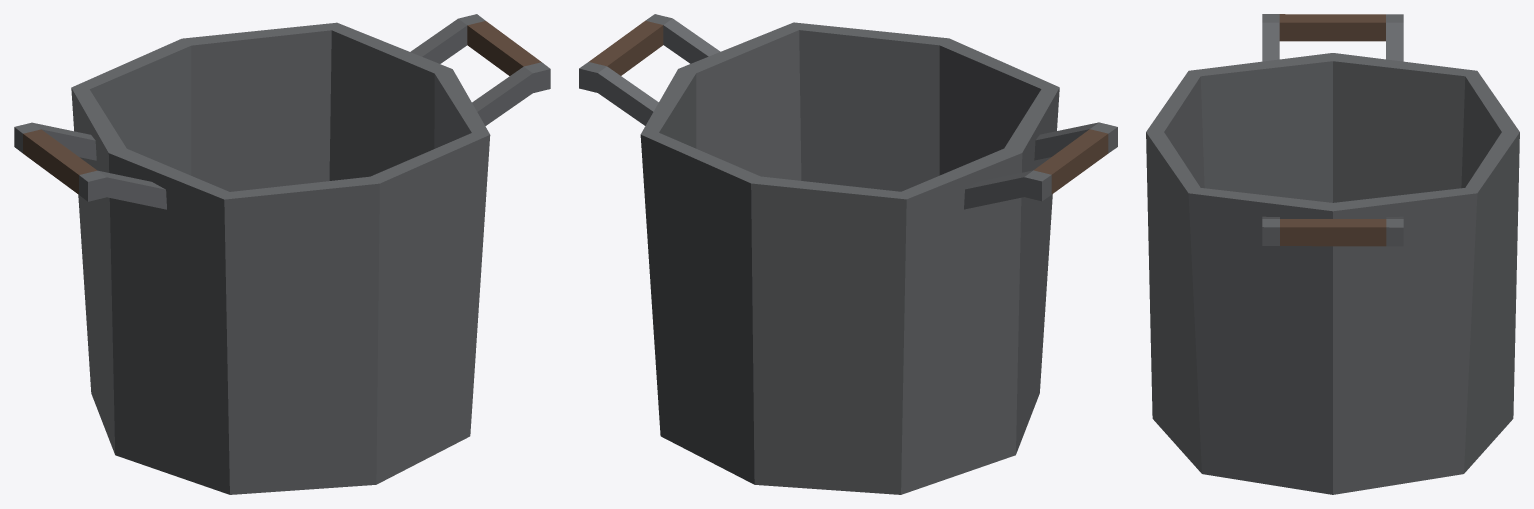
Rendered from potTallSteel.fbx.
3 renders of one model, left to right at view 1: azimuth 30°, elevation 25°; view 2: azimuth 150°, elevation 25°; view 3: azimuth 270°, elevation 25°, orthographic. The views are drawn at different scales.
Visible parts, largest first — view 1: potTallSteel; view 2: potTallSteel; view 3: potTallSteel.
Part boxes in pixels (x1,y1,x2,y2): potTallSteel: [14, 14, 550, 494]; potTallSteel: [579, 14, 1117, 494]; potTallSteel: [1146, 14, 1519, 494].
Bounding box in the file's own units: 47.2 × 30.78 × 34.92.
1 material, 1 textured.
